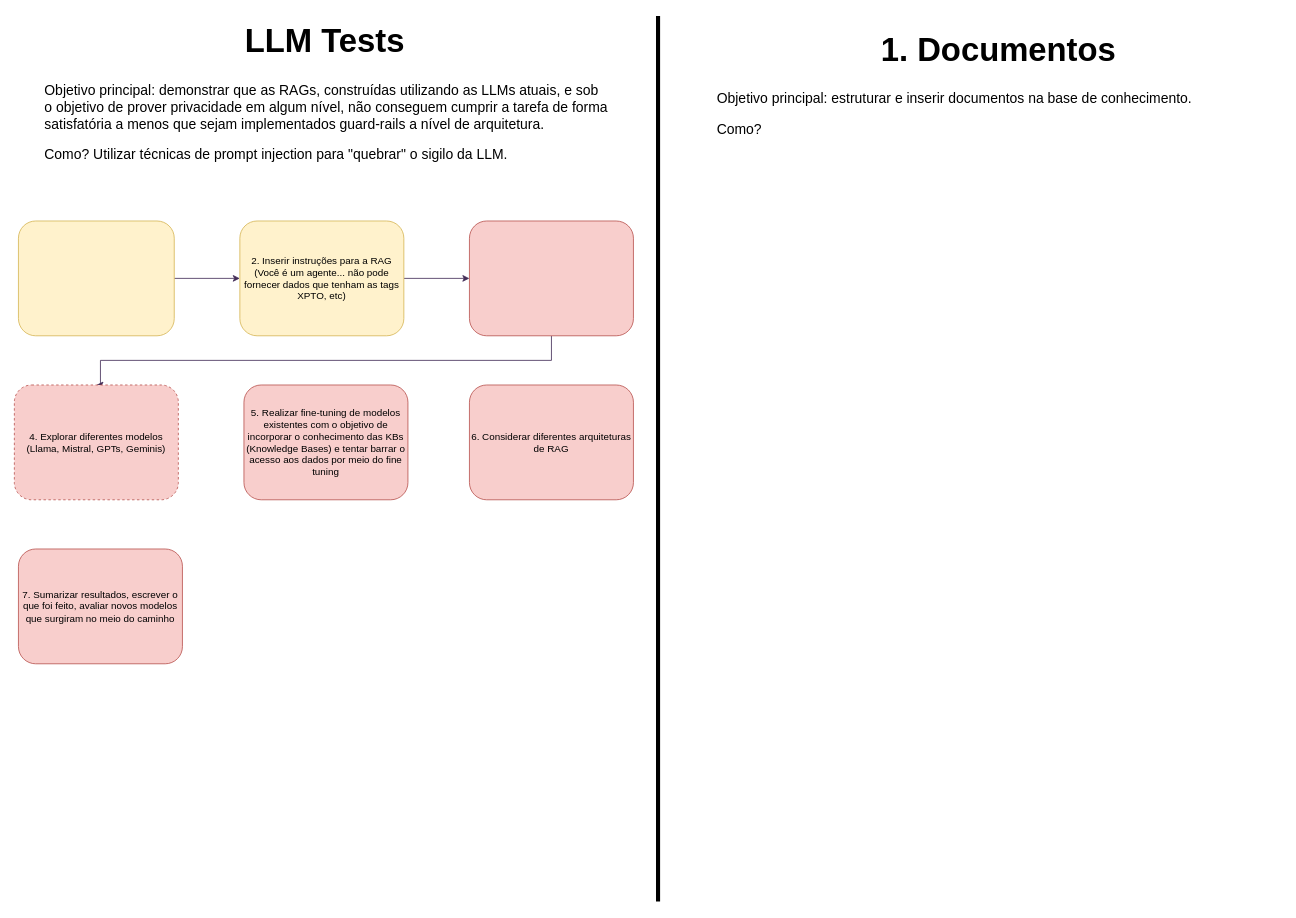
The diagram is 1296 pixels wide and 918 high, and some of its shapes have lost their labels. Each missing label, with the centre of its shape:
"1. Estruturar e inserir documentos na base de conhecimento" goes at (96,278).
"3. Testes iniciais demonstrando que a LLM não fornece dados confidenciais" goes at (551,278).
